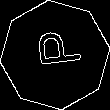P_W: (28, 34, 82, 76)
